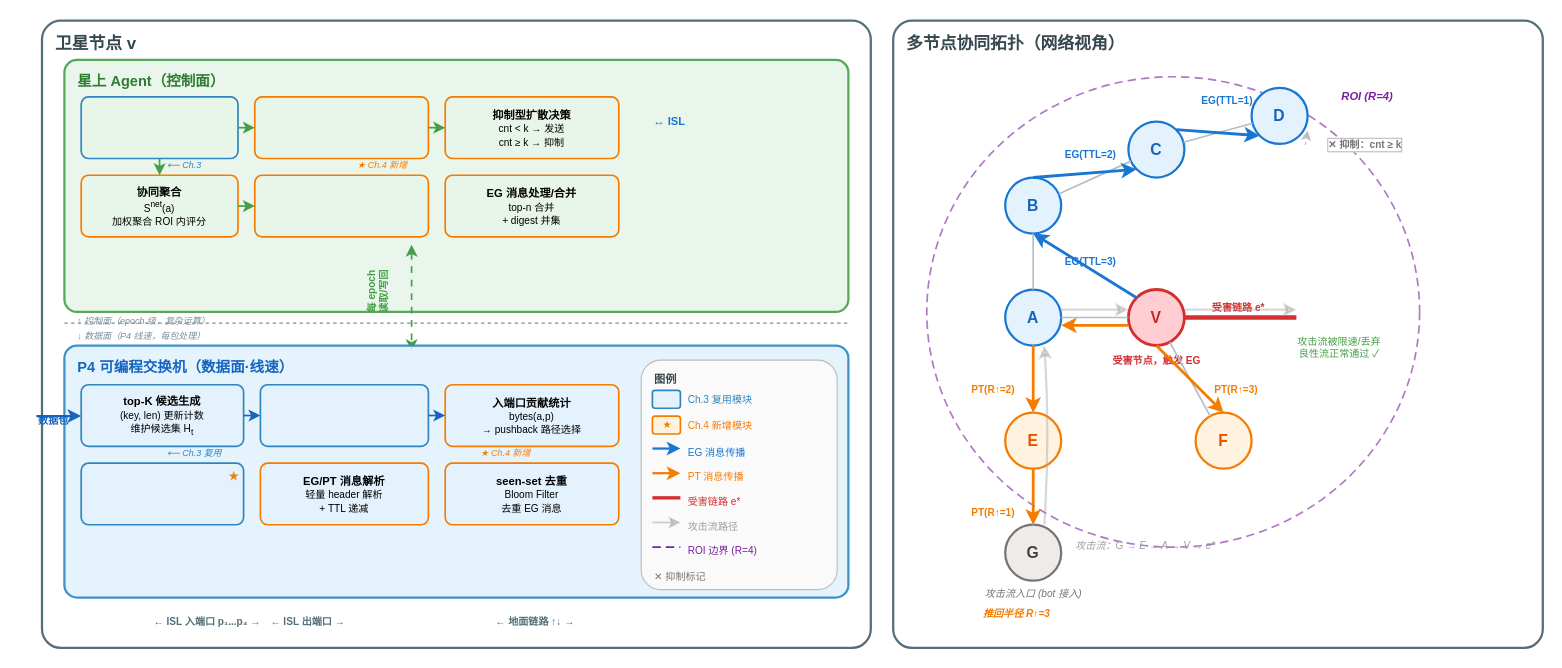
The diagram is 1562 pixels wide and 668 high, and some of its shapes have lost their labels. The box of each missing label's shape, as (x1, y1, x2, y2) in pixels:
FO/FI 位图 仅对 H t 中候选 key 维护 bitmap(a): (259, 383, 429, 447)
Pushback 判定 S net ≥ Θ pb → 生成 PT 令牌: (253, 174, 429, 237)
多签名评分 S v,τ (a) R(a), F(a), P(a): (80, 96, 238, 159)
证据缓存 E v,τ 存储本地 + 收到的 EG 证据摘要: (253, 96, 429, 159)
队列调度 rank(a) → 队列映射 + Pushback 软状态规则: (80, 462, 244, 525)
